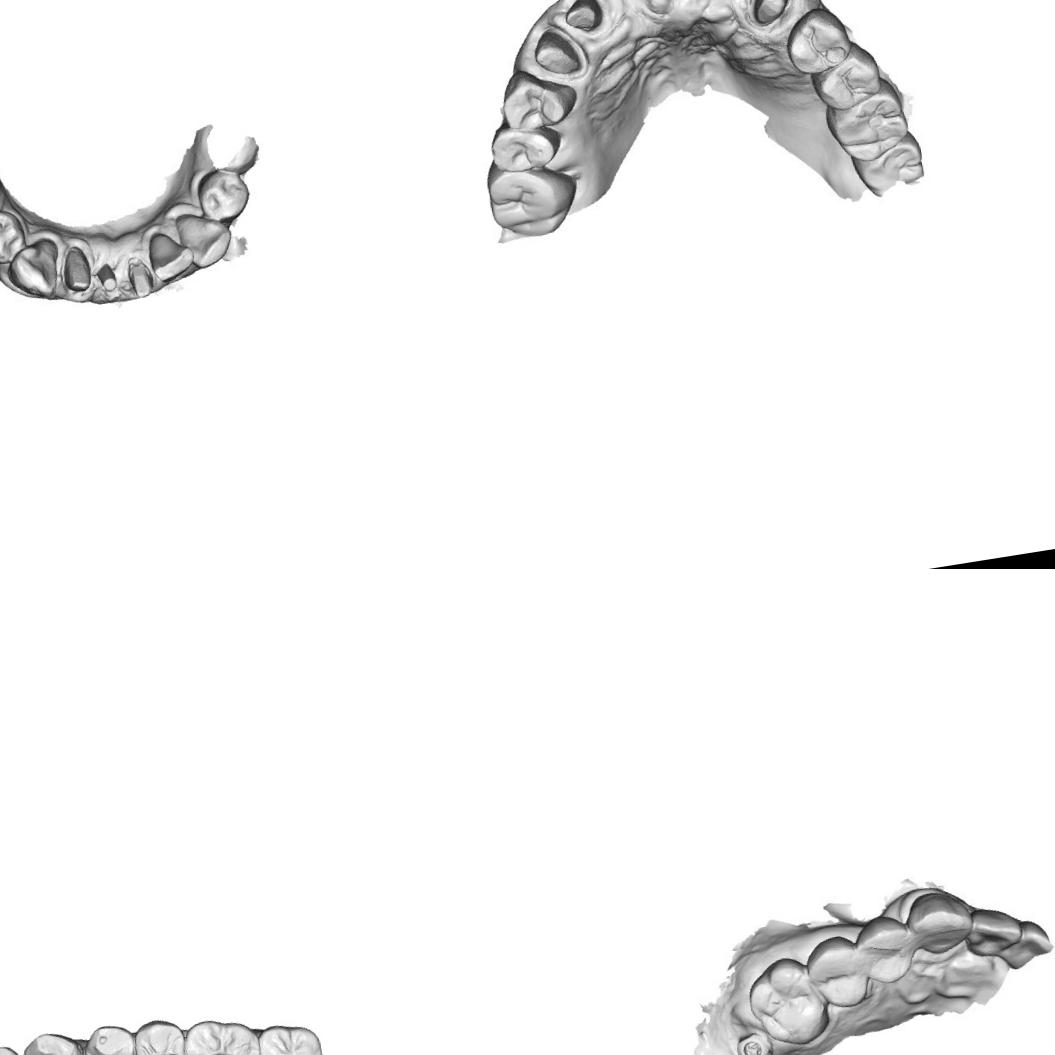abutment: (94, 258, 128, 296)
canine: (904, 886, 978, 963), (3, 235, 66, 302), (172, 204, 233, 270), (22, 1026, 87, 1055)
crown: (530, 26, 584, 82), (60, 243, 96, 297), (740, 0, 802, 31), (559, 0, 606, 38), (123, 252, 158, 300)
implant: (728, 1023, 778, 1055)
incisor: (965, 902, 1022, 961), (146, 229, 197, 286)
molar: (479, 160, 587, 246), (818, 74, 916, 168), (745, 956, 829, 1050), (178, 1010, 268, 1055), (251, 1015, 330, 1055)
premolar: (496, 68, 578, 134), (481, 119, 569, 178), (780, 4, 852, 76), (810, 53, 883, 115), (808, 934, 870, 1006), (858, 918, 914, 985), (192, 166, 252, 227), (130, 1015, 192, 1055), (77, 1019, 140, 1055), (0, 210, 26, 266)
